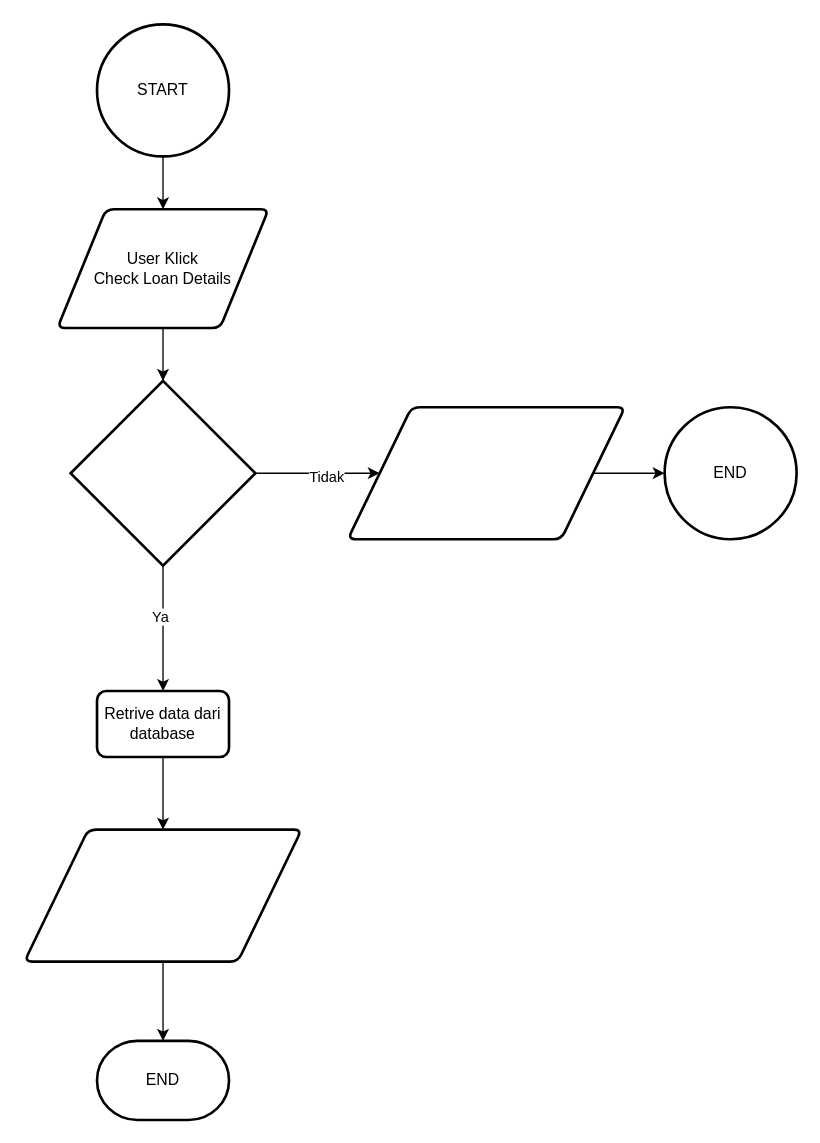
Image size: 820x1143. Some labels were removed from this diagram. The shapes that lost their labels are listed below. From the top down, each one's centre as x and y in pixels, then its label:
At point (162, 472): "Apakah Ada pinjaman yang belum lunas ?".
At point (486, 472): "Tidak Ada Pinjaman Aktive".
At point (162, 895): "Tampilkan Detail Pinjaman".
